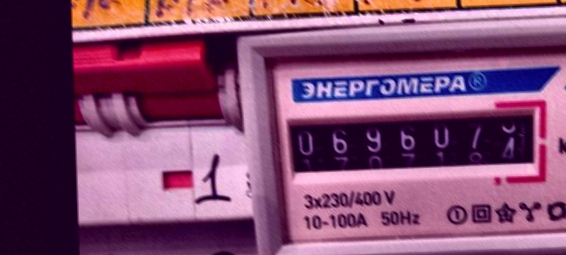0: (431, 119, 450, 150), (297, 127, 314, 156)
4: (499, 132, 517, 161)
6: (398, 121, 416, 151), (331, 125, 348, 154)
7: (465, 119, 485, 150)
9: (364, 124, 382, 153)
screen: (274, 96, 553, 189)
